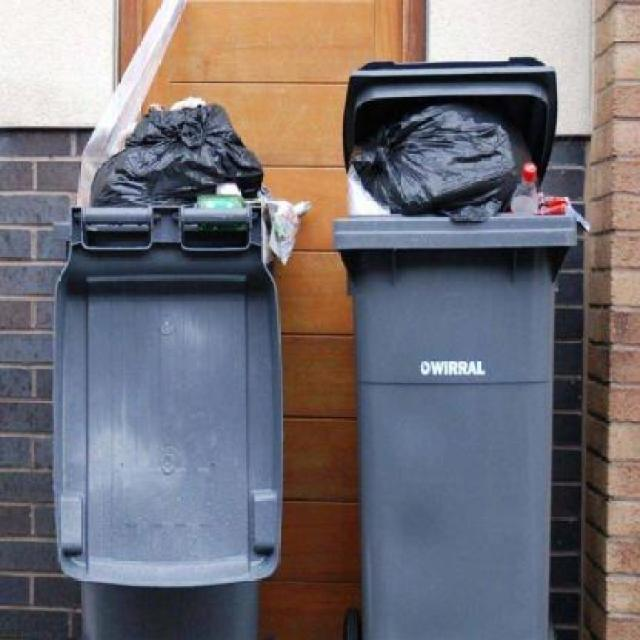garbage: (91, 103, 316, 270), (337, 108, 593, 240)
